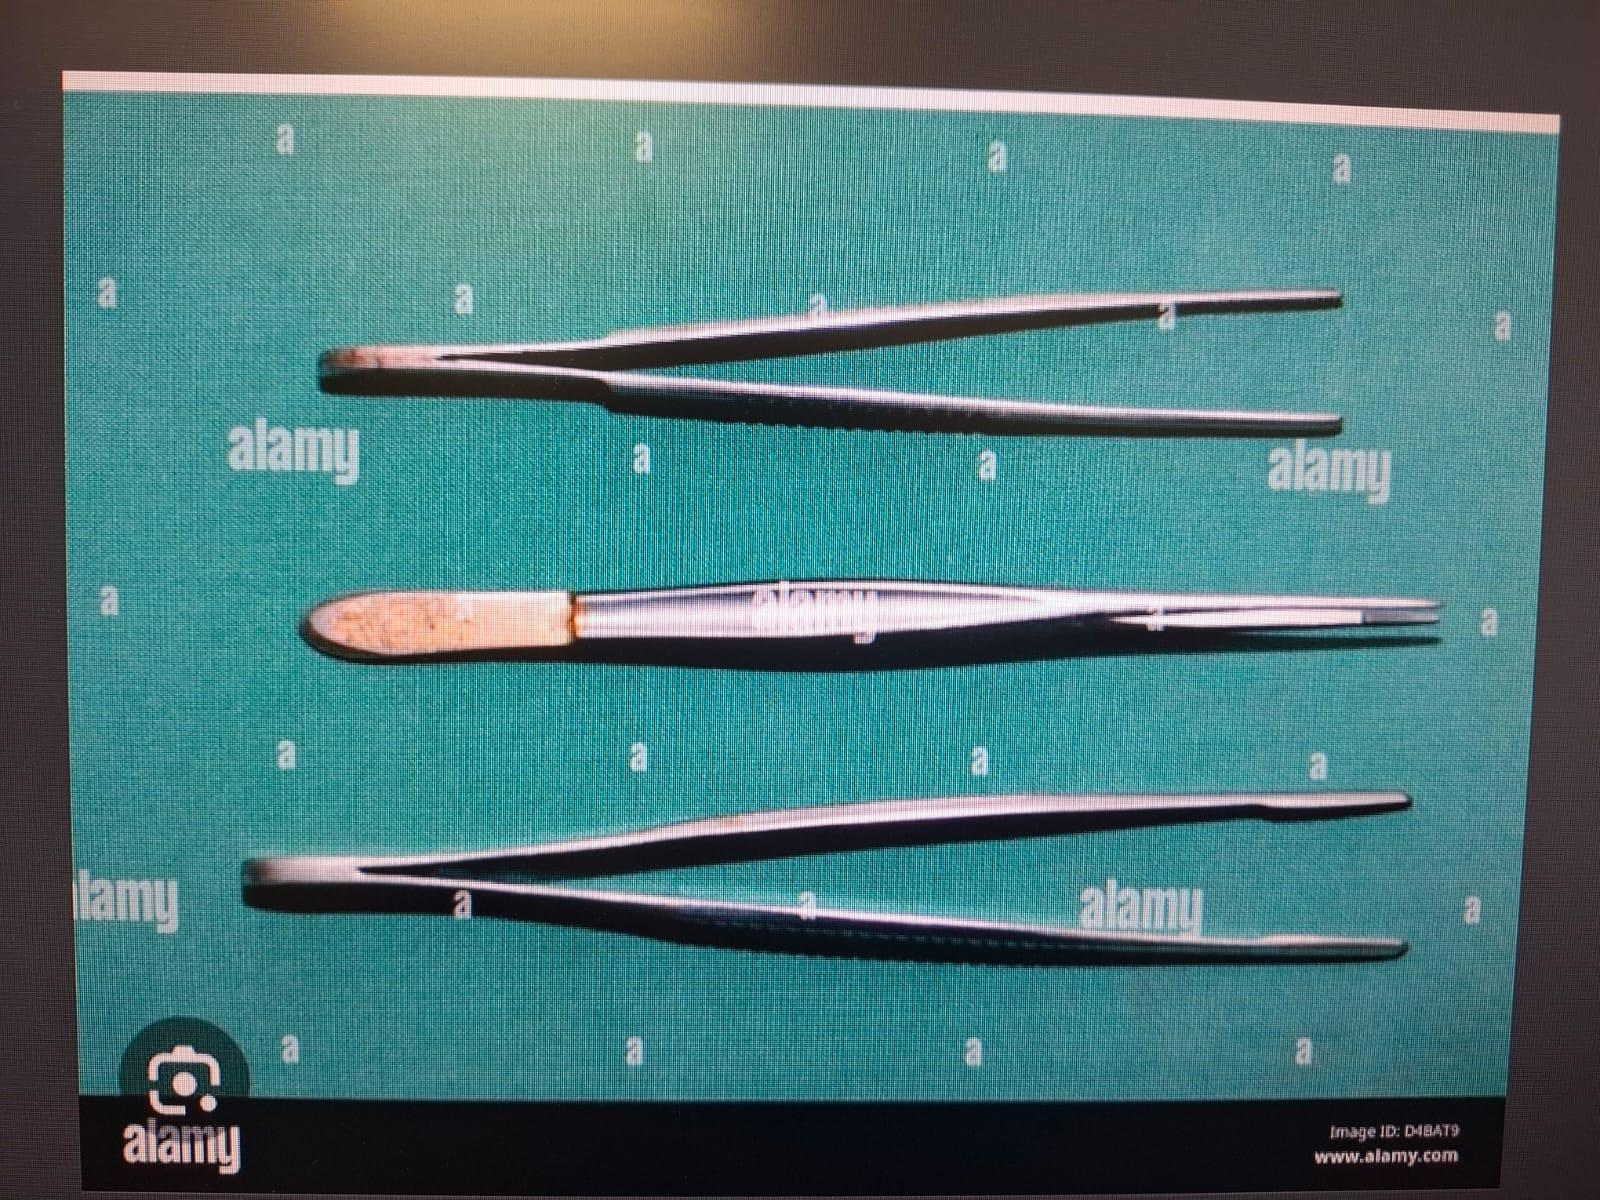Disscting Forceps: (224, 753, 1443, 1010), (290, 250, 1382, 456), (270, 516, 1466, 679)
